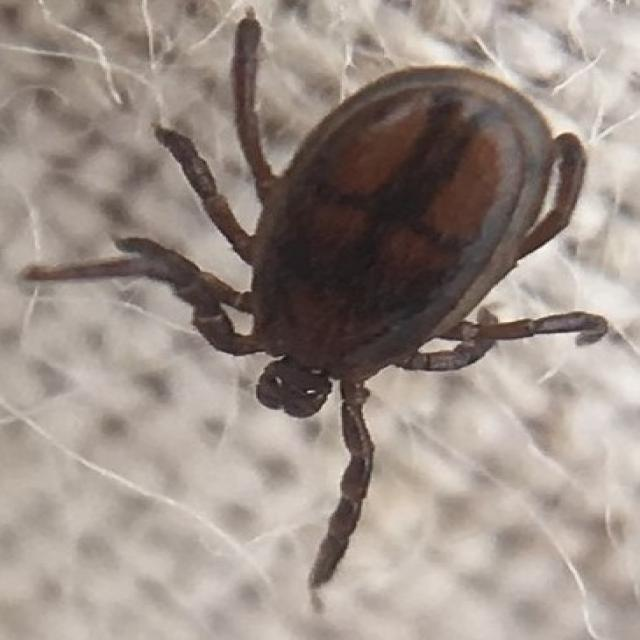Ixodes Ricinus-M: (23, 16, 612, 594)
